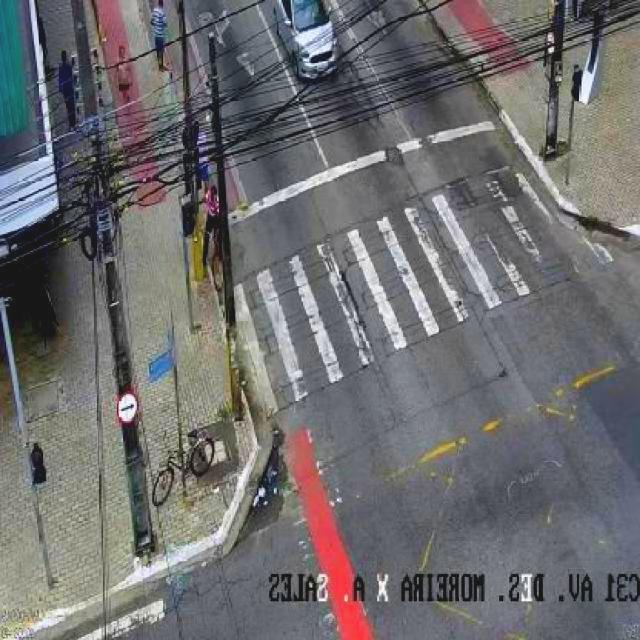Car: (272, 0, 340, 83)
Cycle: (150, 426, 217, 508)
